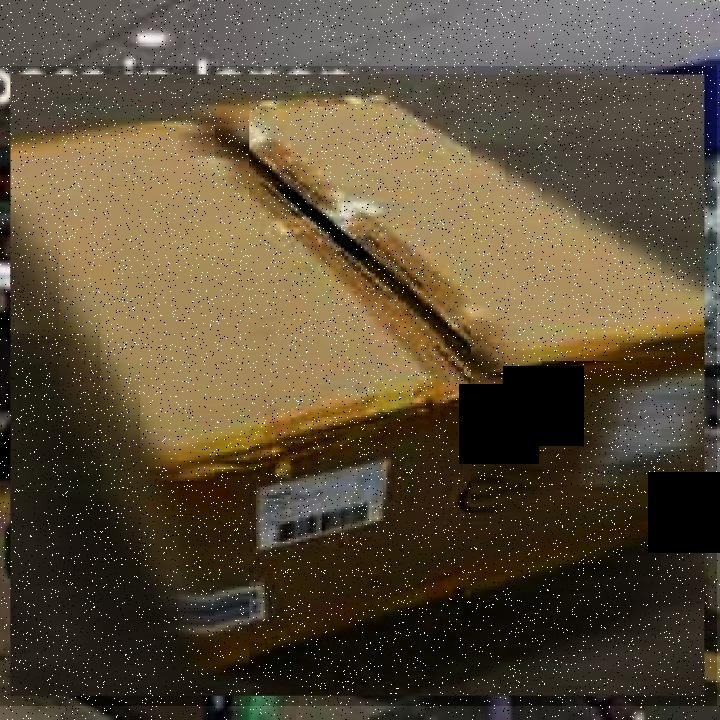box: (0, 66, 717, 706)
